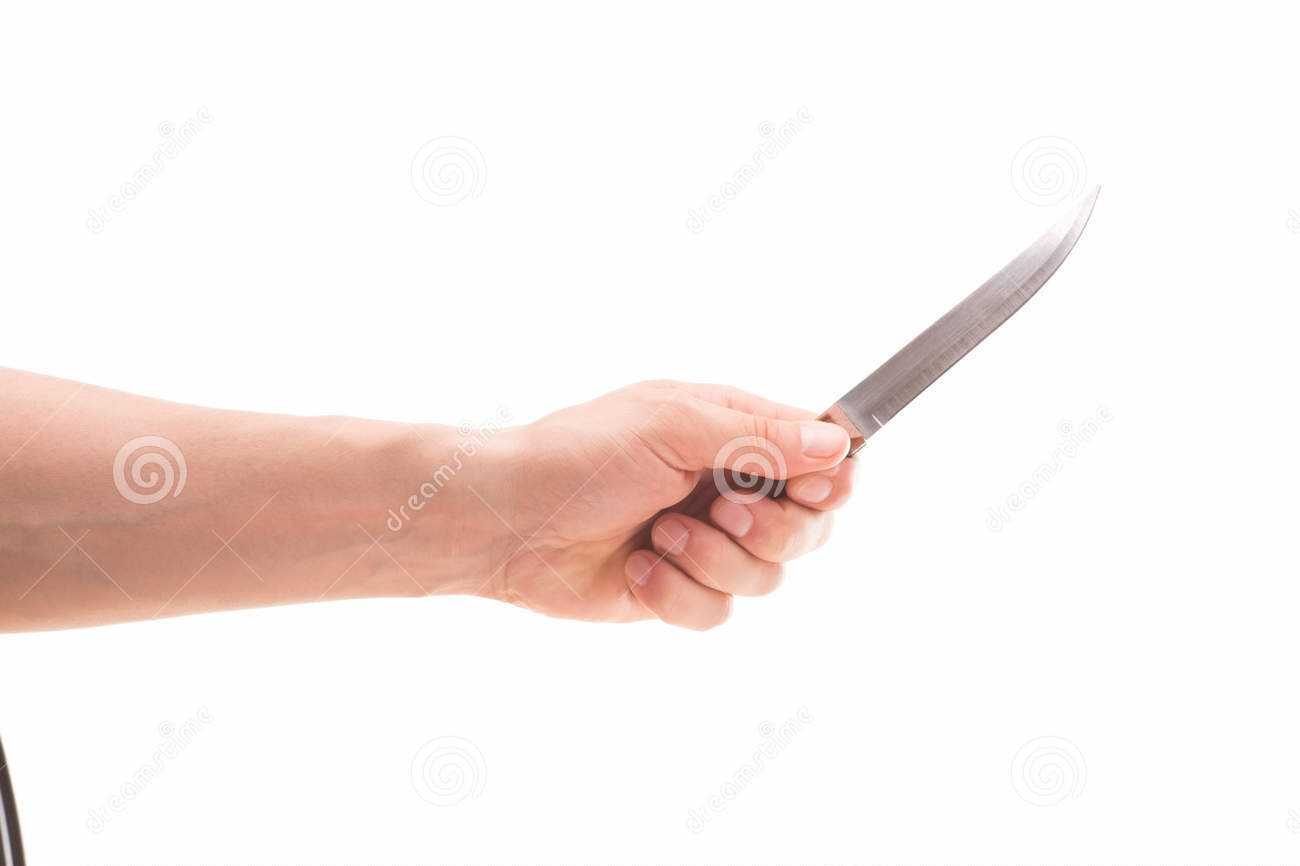knife: (647, 161, 1120, 583)
